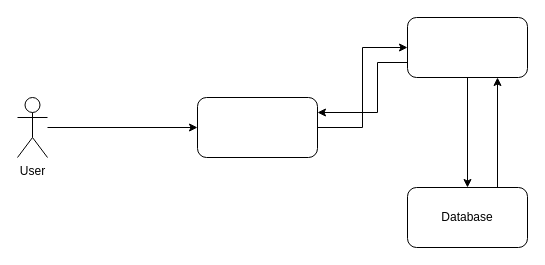
The diagram is 545 pixels wide and 265 high, and some of its shapes have lost their labels. Here are the shapes that lost their labels. From the top down, the centre of each, then its label:
At (x=467, y=47): "API".
At (x=257, y=127): "WebClient".
